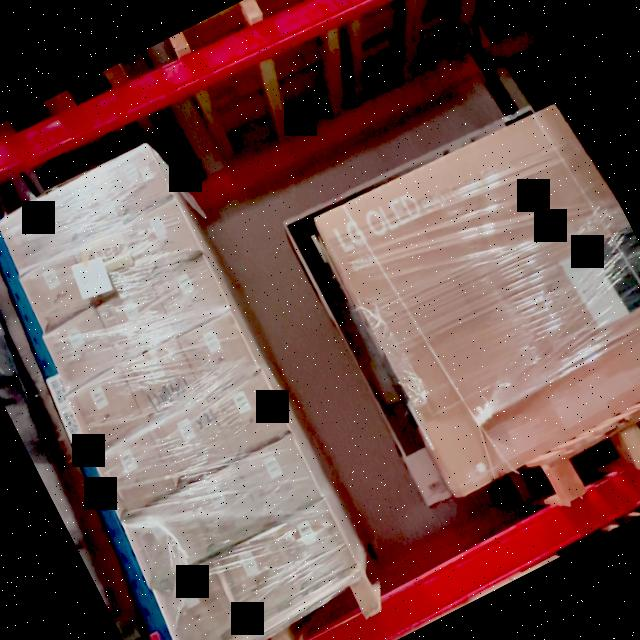box: (320, 112, 640, 493), (122, 494, 209, 584), (182, 463, 268, 553), (272, 502, 358, 591), (216, 534, 302, 622), (239, 436, 322, 522), (151, 561, 241, 640), (209, 372, 292, 456), (94, 432, 176, 516), (152, 400, 234, 484), (122, 338, 204, 420), (66, 369, 146, 452), (152, 254, 232, 333), (97, 282, 176, 359), (182, 314, 258, 394), (125, 198, 202, 276), (43, 312, 119, 388), (46, 172, 122, 247), (20, 253, 94, 329), (100, 146, 174, 220), (73, 227, 147, 299), (0, 200, 69, 272)
